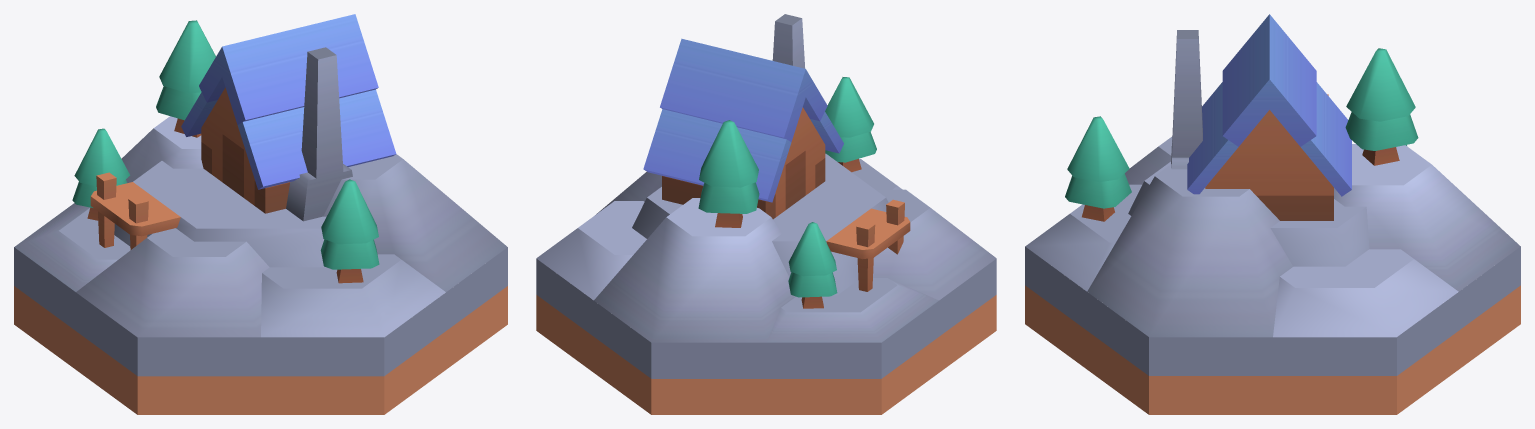
File: kenney-hexagon-building-cabin.glb
3 renders of one model, left to right at view 1: azimuth 30°, elevation 25°; view 2: azimuth 150°, elevation 25°; view 3: azimuth 270°, elevation 25°, orthographic. The views are drawn at different scales.
Parts seen in each view (by area): view 1: building_cabin; view 2: building_cabin; view 3: building_cabin.
Part boxes in pixels (box(x1,y1,x2,y2)): building_cabin: box(14, 14, 507, 414); building_cabin: box(536, 14, 996, 414); building_cabin: box(1025, 14, 1520, 414).
Bounding box in the file's own units: 1 × 0.7684 × 1.15.
1 material, 1 textured.
